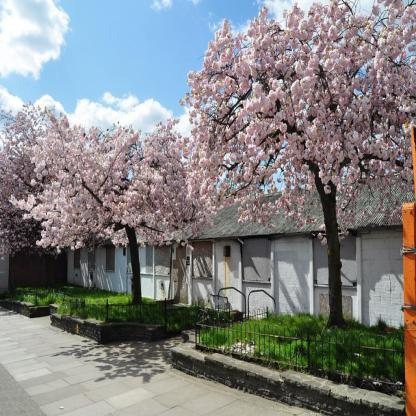YaeSakura: (179, 7, 416, 238), (1, 86, 217, 270)
